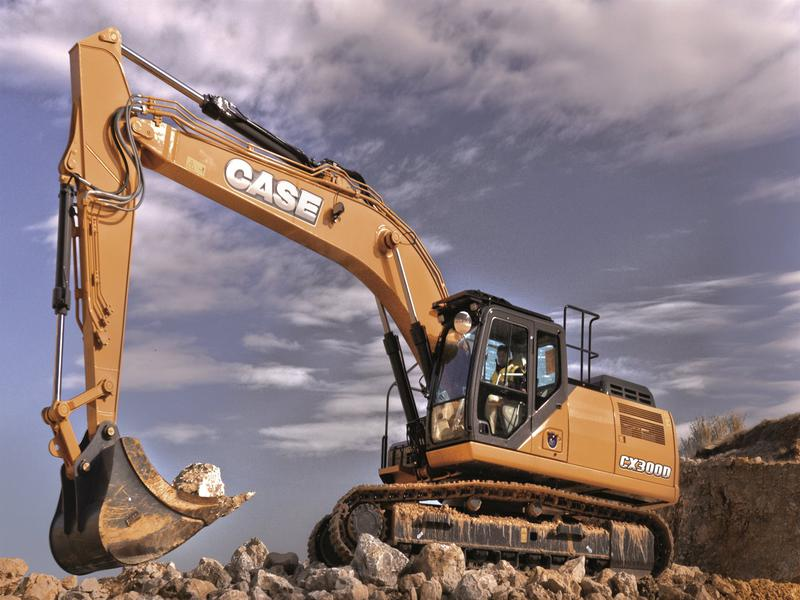shovel: (33, 21, 691, 589)
